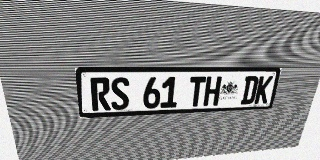1: (160, 77, 179, 108)
6: (143, 77, 161, 109)
D: (240, 76, 259, 104)
H: (203, 76, 222, 106)
K: (254, 76, 273, 104)
R: (90, 77, 111, 111)
S: (110, 77, 129, 110)
T: (187, 76, 206, 107)
